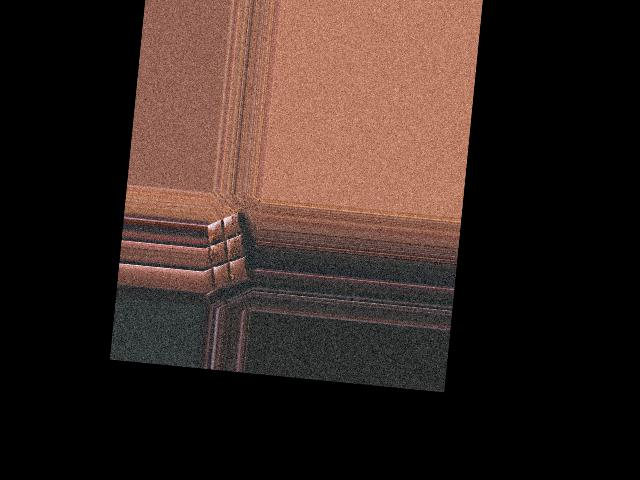chocolate: (201, 205, 257, 297)
